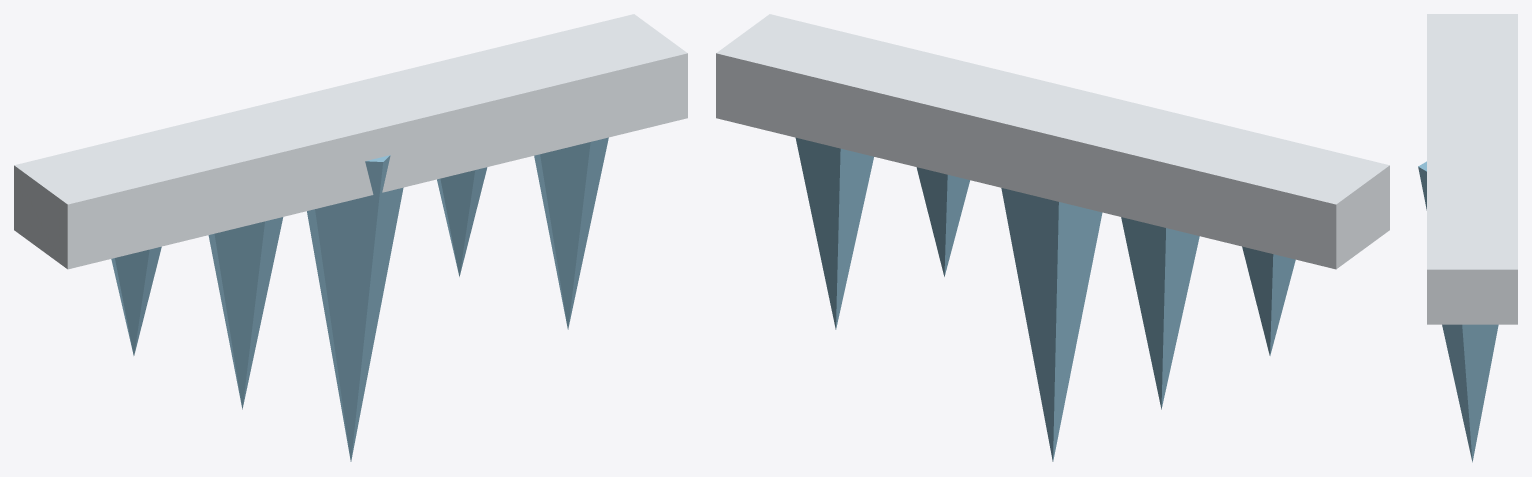
File: icicle_row.glb
3 views of the same model, side by side, from view 1: azimuth 30°, elevation 25°; view 2: azimuth 150°, elevation 25°; view 3: azimuth 270°, elevation 25° (orthographic). The views are drawn at different scales.
Visible parts, largest first — view 1: icicle_row; view 2: icicle_row; view 3: icicle_row.
Part boxes in pixels (x1=…): icicle_row: x1=14, y1=14, x2=687, y2=461; icicle_row: x1=716, y1=14, x2=1389, y2=461; icicle_row: x1=1418, y1=14, x2=1517, y2=462.
Size of the model in its own units: 2 by 1.09 by 0.33.
